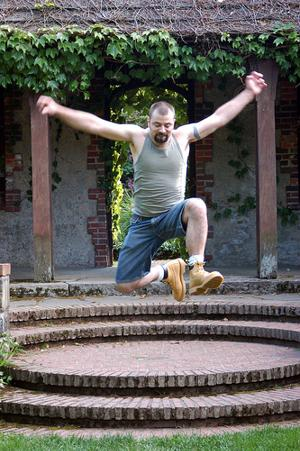person: (36, 71, 267, 303)
